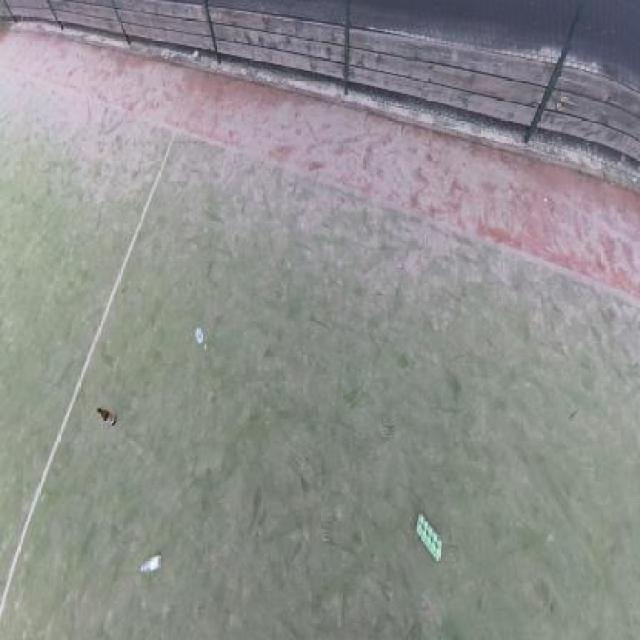Garbage: (415, 513, 443, 563), (139, 554, 161, 574), (97, 407, 116, 426), (195, 326, 203, 343), (203, 343, 207, 350)
